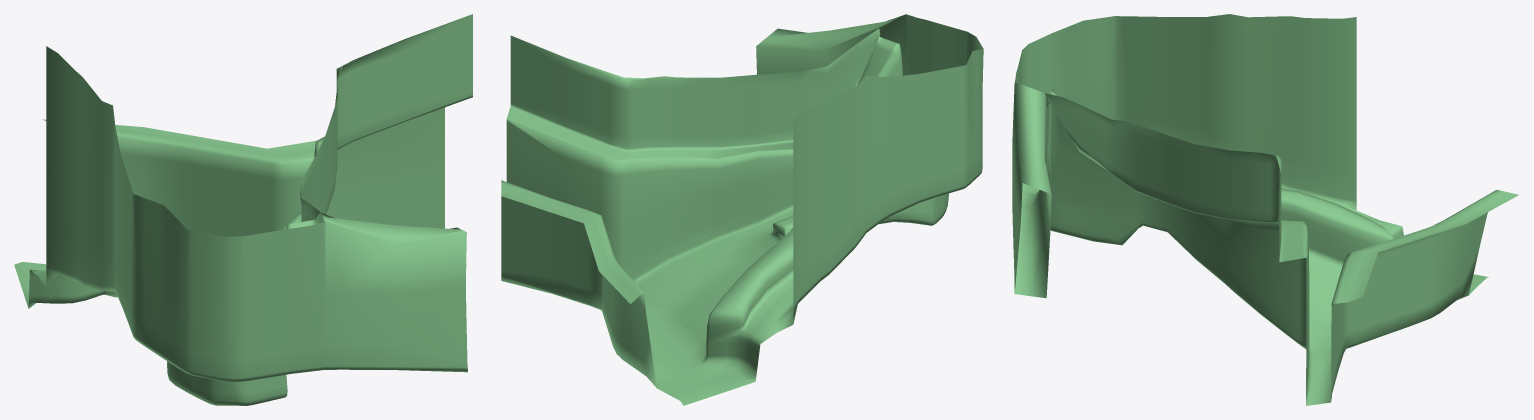
The model's file is terrain_W1A6.fbx.
3 views of the same model, side by side, from view 1: azimuth 30°, elevation 25°; view 2: azimuth 150°, elevation 25°; view 3: azimuth 270°, elevation 25° (orthographic). The views are drawn at different scales.
Visible parts, largest first — view 1: W1A6_mesh; view 2: W1A6_mesh; view 3: W1A6_mesh.
Boxes of the visible parts, bbox=[...] form: W1A6_mesh: bbox=[14, 14, 472, 405]; W1A6_mesh: bbox=[501, 14, 983, 405]; W1A6_mesh: bbox=[1012, 14, 1518, 405].
Bounding box in the file's own units: 12723 × 8037 × 15348.
